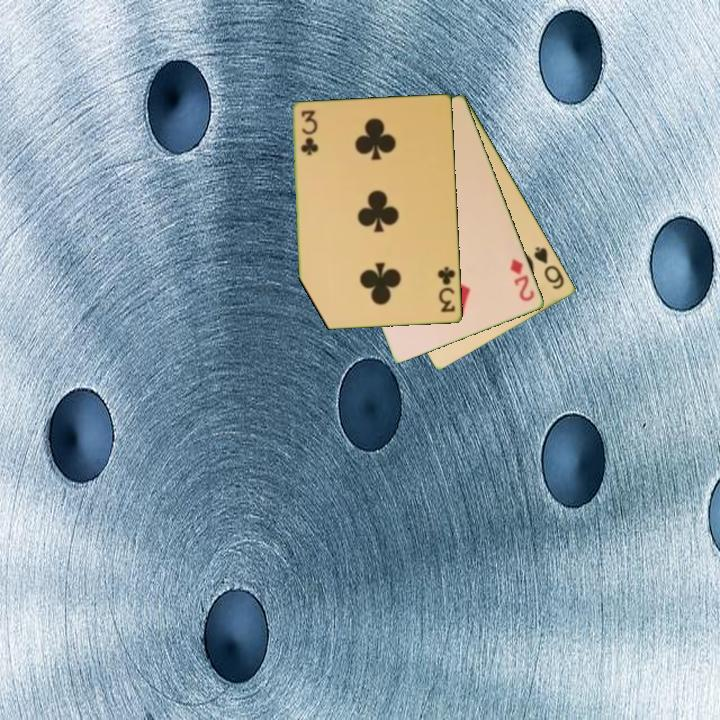2d: (507, 255, 538, 304)
3c: (434, 263, 458, 316), (297, 107, 319, 158)
6s: (531, 243, 568, 292)
